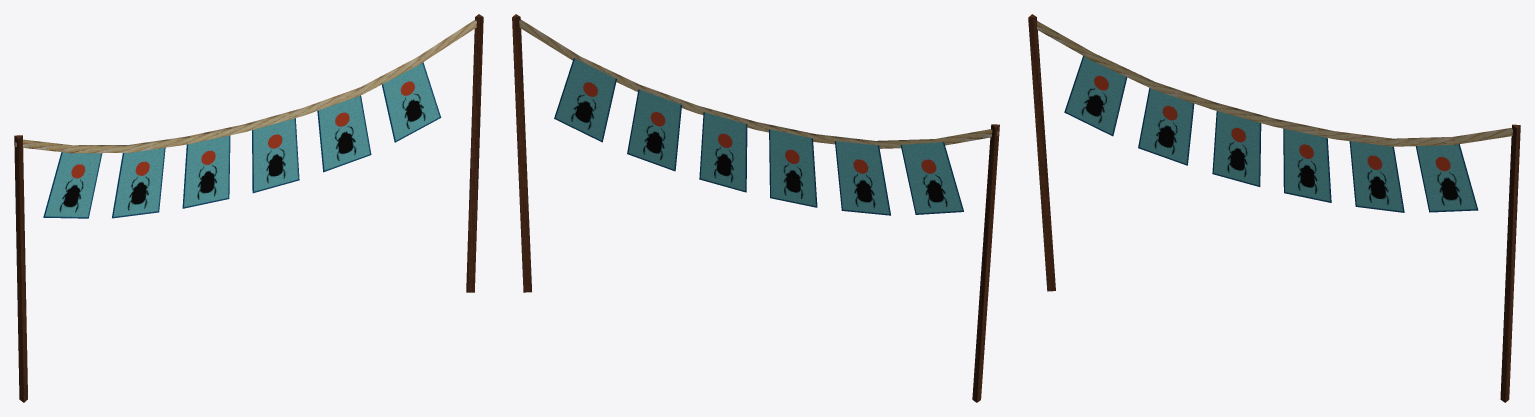
The model's file is FilaBanderines.fbx.
3 renders of one model, left to right at view 1: azimuth 30°, elevation 25°; view 2: azimuth 150°, elevation 25°; view 3: azimuth 330°, elevation 25°, orthographic.
Parts seen in each view (by area): view 1: Cylinder.002; view 2: Cylinder.002; view 3: Cylinder.002.
Part boxes in pixels (x1=…): Cylinder.002: x1=14, y1=14, x2=483, y2=402; Cylinder.002: x1=512, y1=14, x2=999, y2=402; Cylinder.002: x1=1028, y1=14, x2=1520, y2=402.
Size of the model in its own units: 547 by 300 by 25.01.
1 material, 1 textured.
